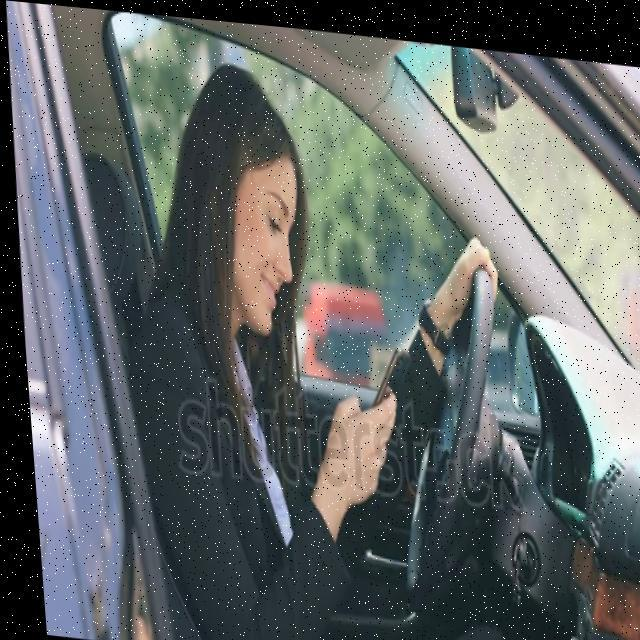PhoneCall: (362, 332, 411, 446)
